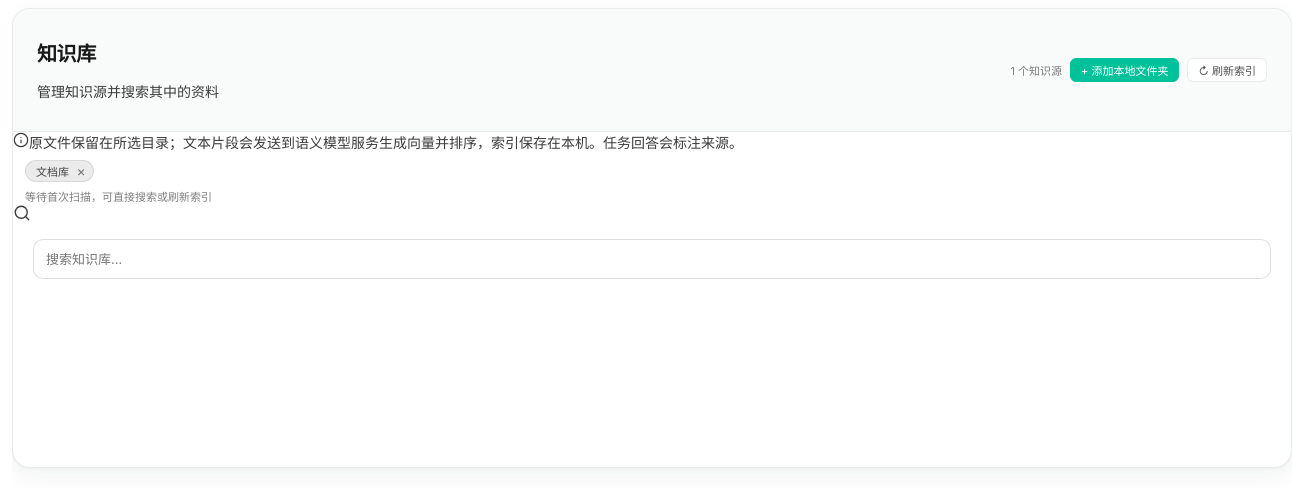
Test: KnowledgeBasePanel › 搜索无匹配显示空态
Type "不存在" into the field labelled "搜索知识库".
click(652, 259); type("不存在")  # box [33, 239, 1271, 279]
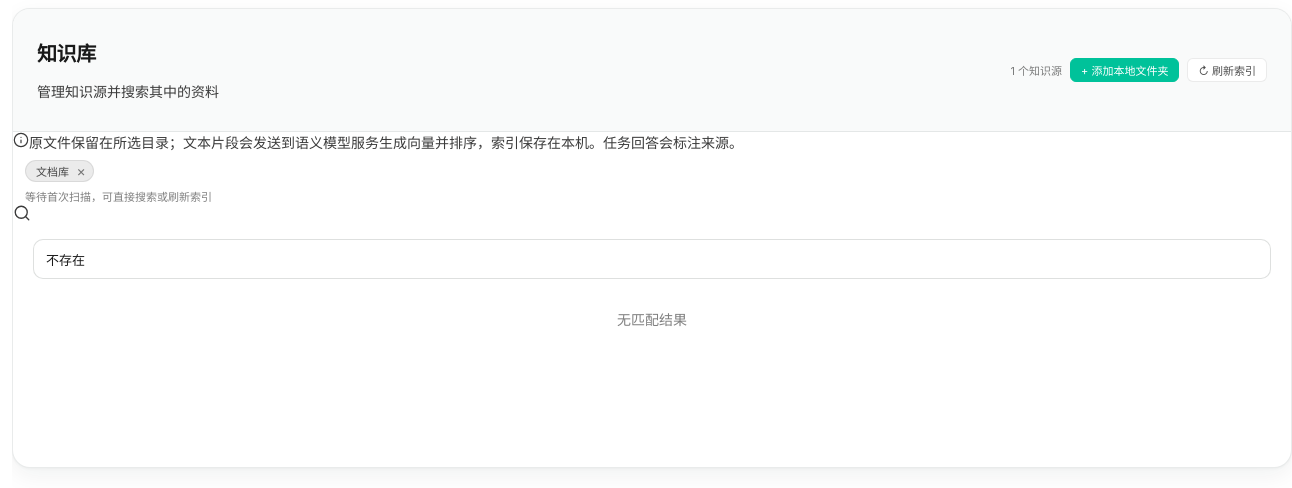
Check: the list item "无匹配结果" is shown, box [617, 311, 687, 328]
